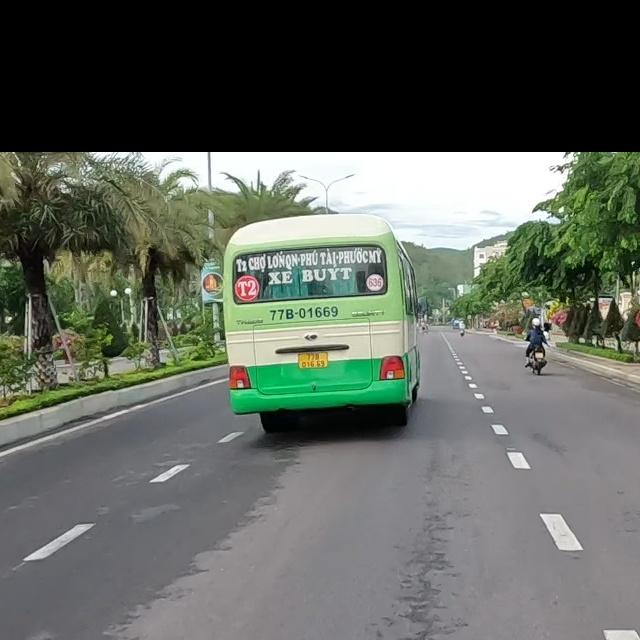license-plate: (298, 352, 328, 369)
